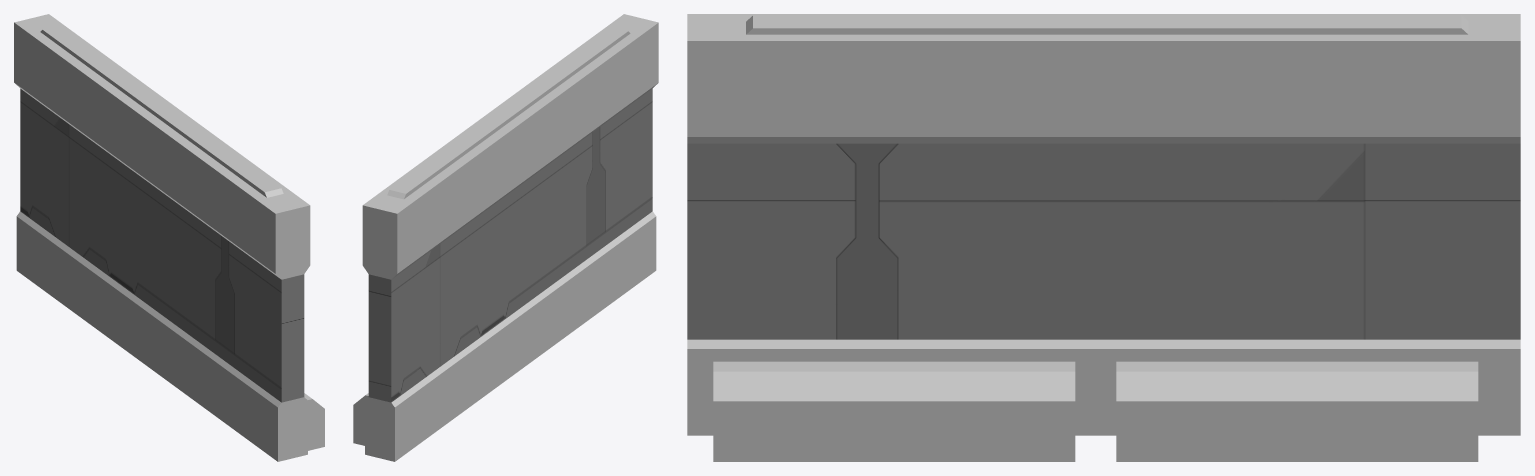
Rendered from SM_Wall_2x4_1.fbx.
3 views of the same model, side by side, from view 1: azimuth 30°, elevation 25°; view 2: azimuth 150°, elevation 25°; view 3: azimuth 270°, elevation 25° (orthographic). The views are drawn at different scales.
Visible parts, largest first — view 1: SM_Wall_2x4_1; view 2: SM_Wall_2x4_1; view 3: SM_Wall_2x4_1.
Part boxes in pixels (x1=…): SM_Wall_2x4_1: x1=14, y1=14, x2=324, y2=461; SM_Wall_2x4_1: x1=353, y1=14, x2=658, y2=461; SM_Wall_2x4_1: x1=687, y1=14, x2=1520, y2=461.
Bounding box in the file's own units: 50.77 × 217 × 400.
